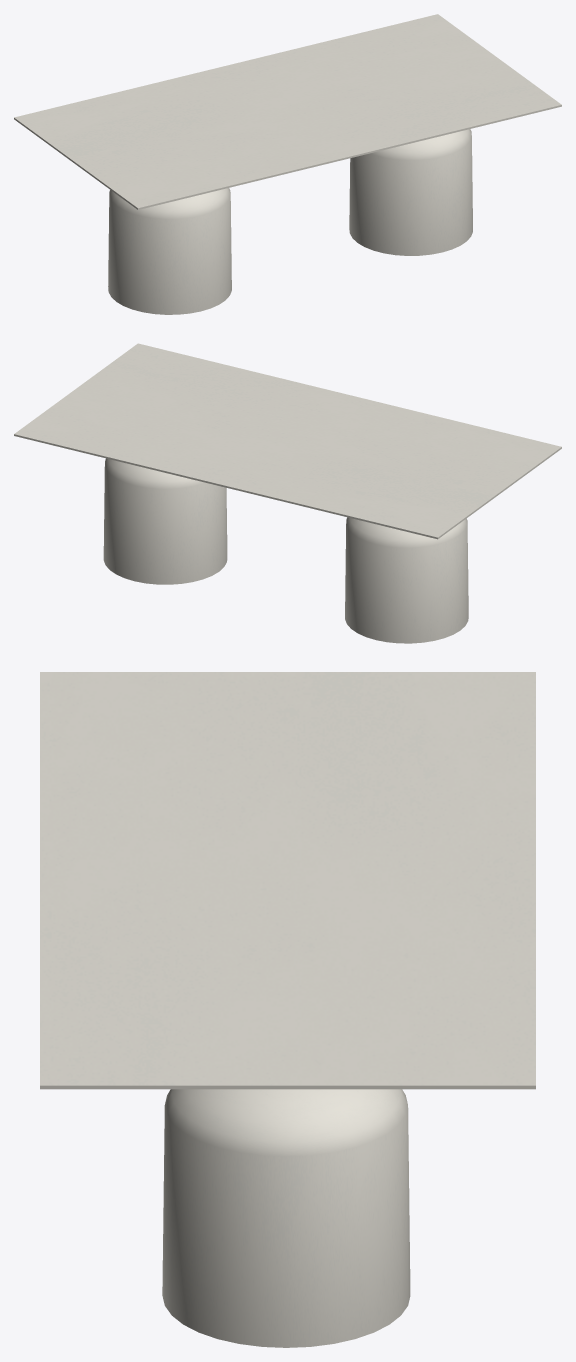
The model's file is pale_recta_facet_tornado.glb.
The picture shows the model from 3 angles, top to bottom: view 1: azimuth 30°, elevation 25°; view 2: azimuth 150°, elevation 25°; view 3: azimuth 270°, elevation 25°; orthographic projection. The views are drawn at different scales.
Visible parts, largest first — view 1: facet_recta, tornado; view 2: facet_recta, tornado; view 3: facet_recta, tornado.
Part boxes in pixels (x1,y1,x2,y2): facet_recta: (14,14,561,209); tornado: (108,129,472,314); facet_recta: (14,343,561,539); tornado: (103,458,468,643); facet_recta: (40,672,535,1089); tornado: (162,1089,410,1347).
Size of the model in its own units: 7.5 by 2.51 by 3.8.
Materials: 1 (1 with a texture image).
